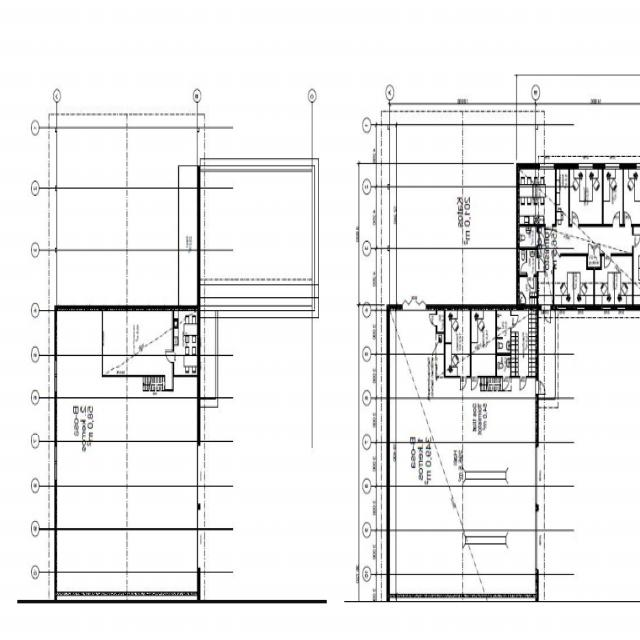door: (549, 246, 560, 266), (535, 380, 547, 395), (536, 258, 546, 272), (612, 211, 620, 227), (544, 305, 551, 323), (502, 376, 510, 391), (537, 232, 546, 245), (510, 315, 519, 328), (527, 274, 534, 290), (572, 212, 579, 227), (460, 376, 467, 390), (632, 235, 640, 247), (546, 224, 552, 240), (625, 212, 631, 227), (166, 352, 174, 363), (605, 254, 611, 268), (520, 376, 526, 390), (472, 376, 478, 390), (430, 314, 437, 326), (588, 242, 594, 255), (594, 242, 600, 255), (520, 262, 527, 273), (542, 305, 544, 315)
